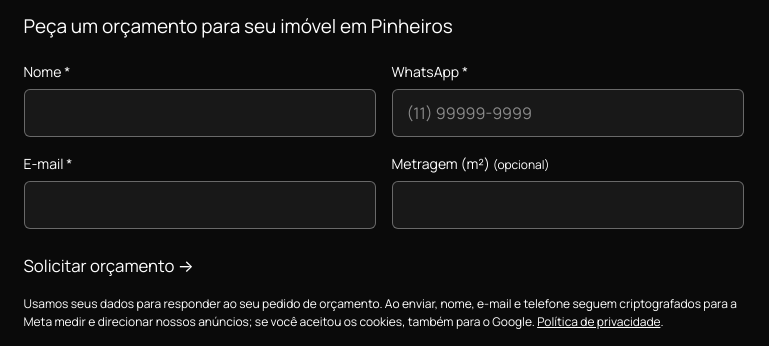
BairroLeadForm › falha: avisa que ficou salvo e mantém o WhatsApp
Type "Ana Souza" into the field with id "bf-nome". click: (200, 113)
box: [24,89,376,137]
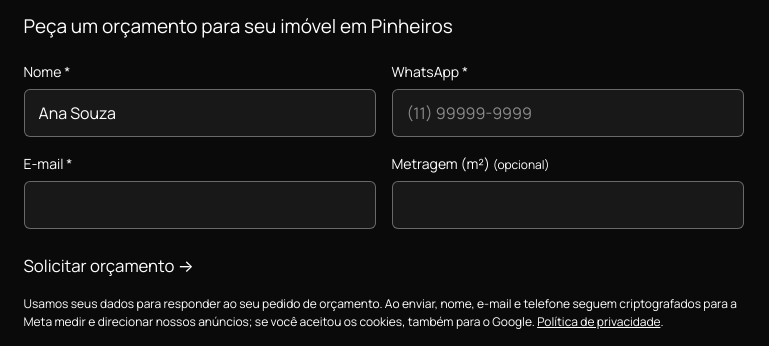
Type "11912345678" into the field with id "bf-whats". click: (568, 113)
box: [392,89,744,137]
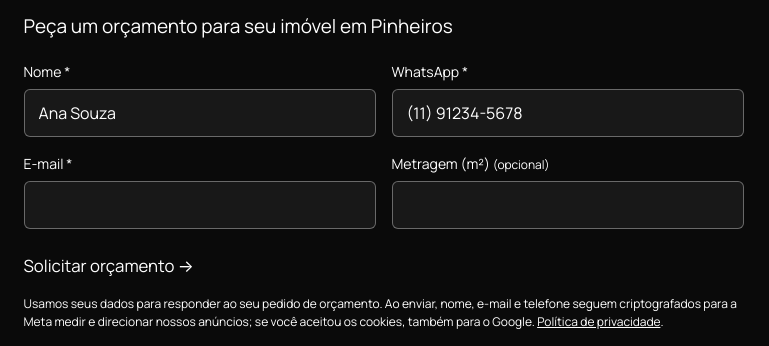
Type "ana@exemplo.com" into the field with id "bf-email". click: (200, 205)
box: [24,181,376,229]
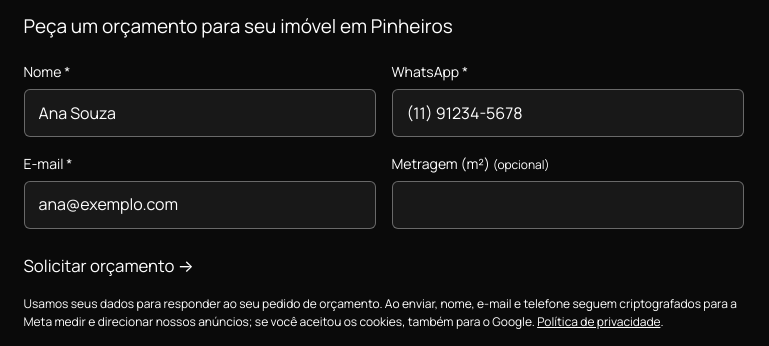
Click the button "Solicitar orçamento →". click: (109, 266)
box: [24,253,194,279]
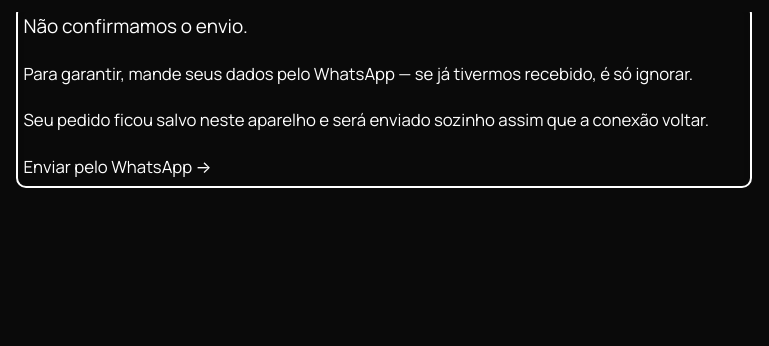
Check: the message shows "Seu pedido ficou salvo neste aparelho e será enviado sozinho assim que a conexão voltar.", box [24,108,709,132]
Check: the link "Enviar pelo WhatsApp →" is shown, box [24,154,212,178]
